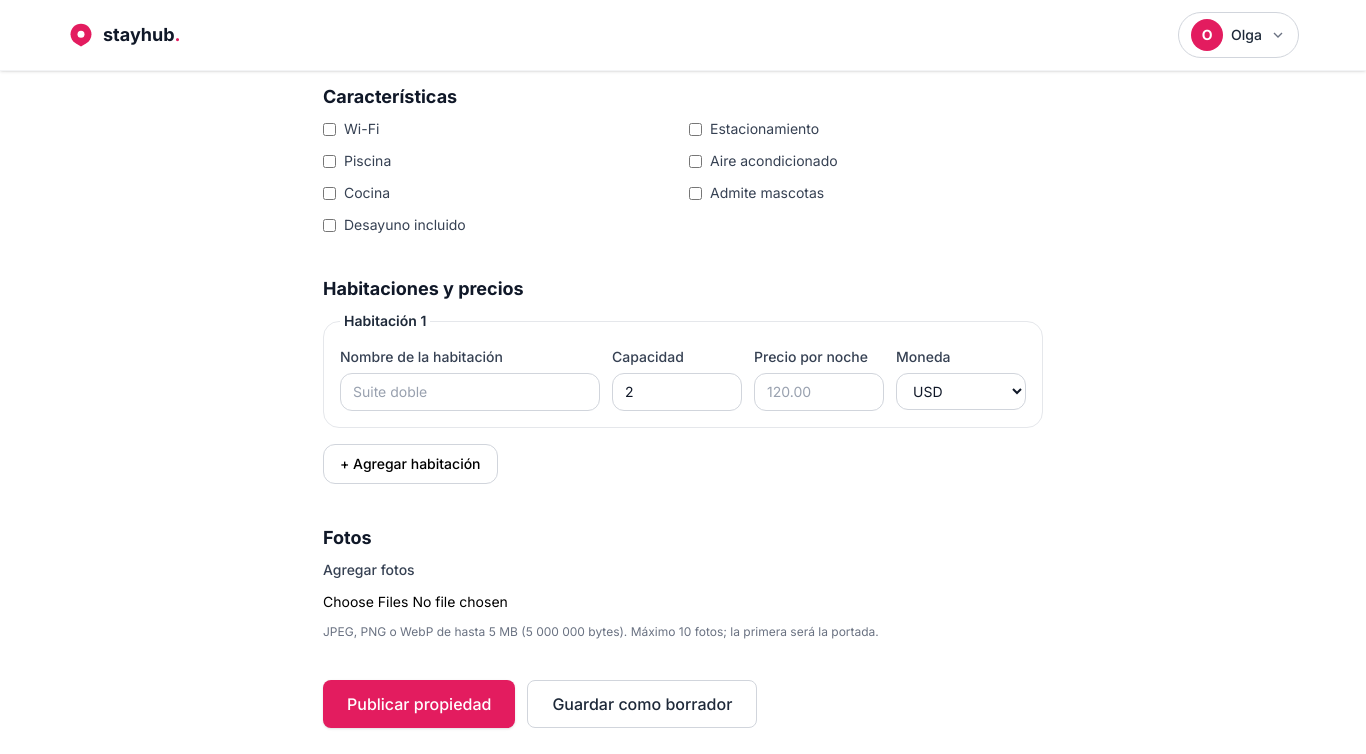
Test: PublishProperty form › adds and removes rooms dynamically, always keeping one
(page scrolled)
Expected: the button "Eliminar habitación" is not shown
Click the button "+ Agregar habitación" at x=410, y=464, box [323,444,498,484]
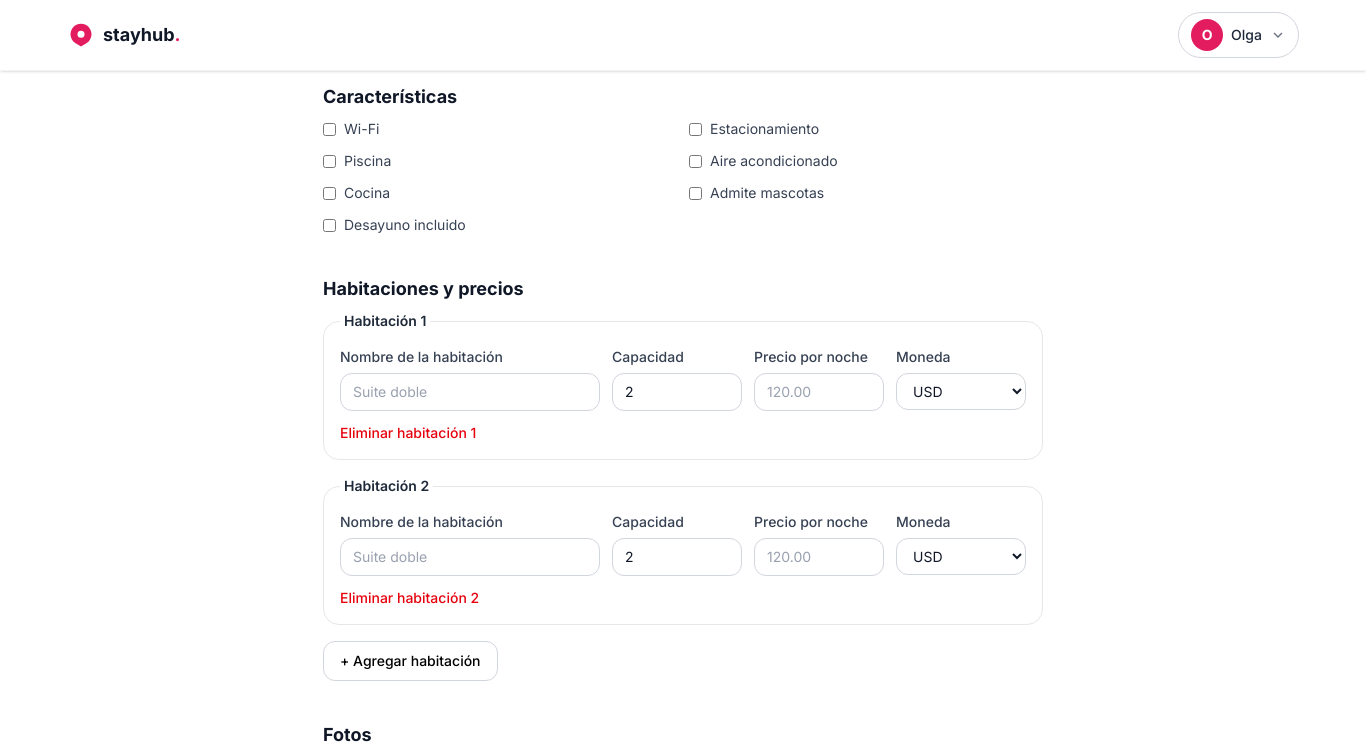
Click the button "+ Agregar habitación" at x=410, y=661, box [323,641,498,681]
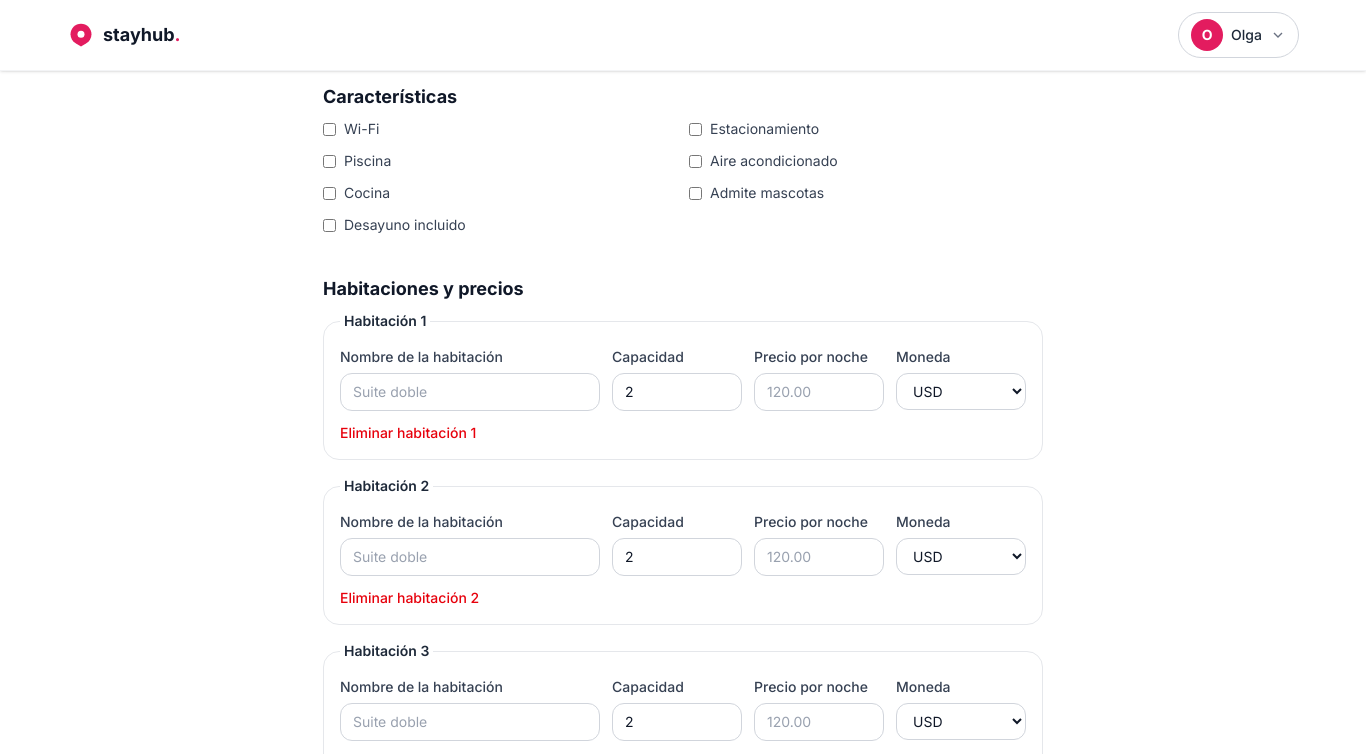
Result: the number of fields labelled "Nombre de la habitación" is 3
Type "Segunda" into the 2nd field labelled "Nombre de la habitación" at x=470, y=557, box [340,538,600,576]
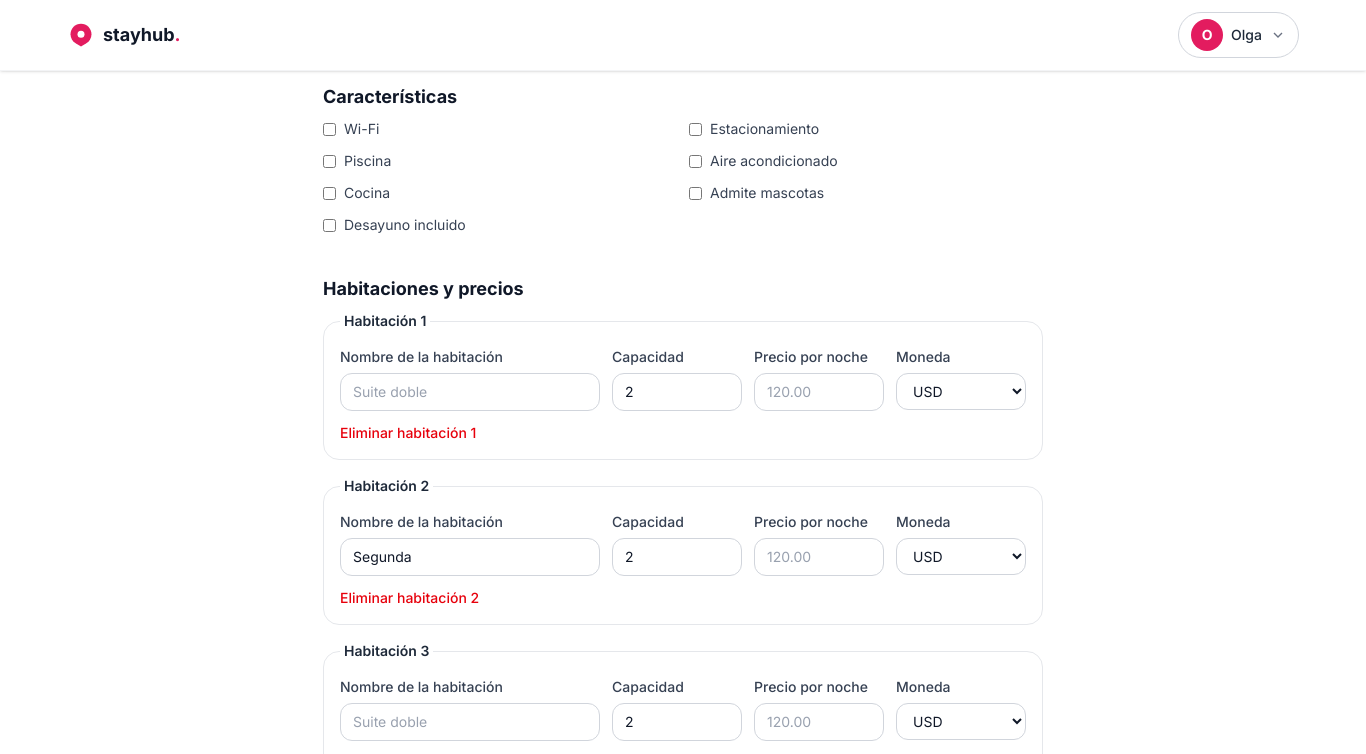
Click the button "Eliminar habitación 1" at x=408, y=433, box [340,423,476,443]
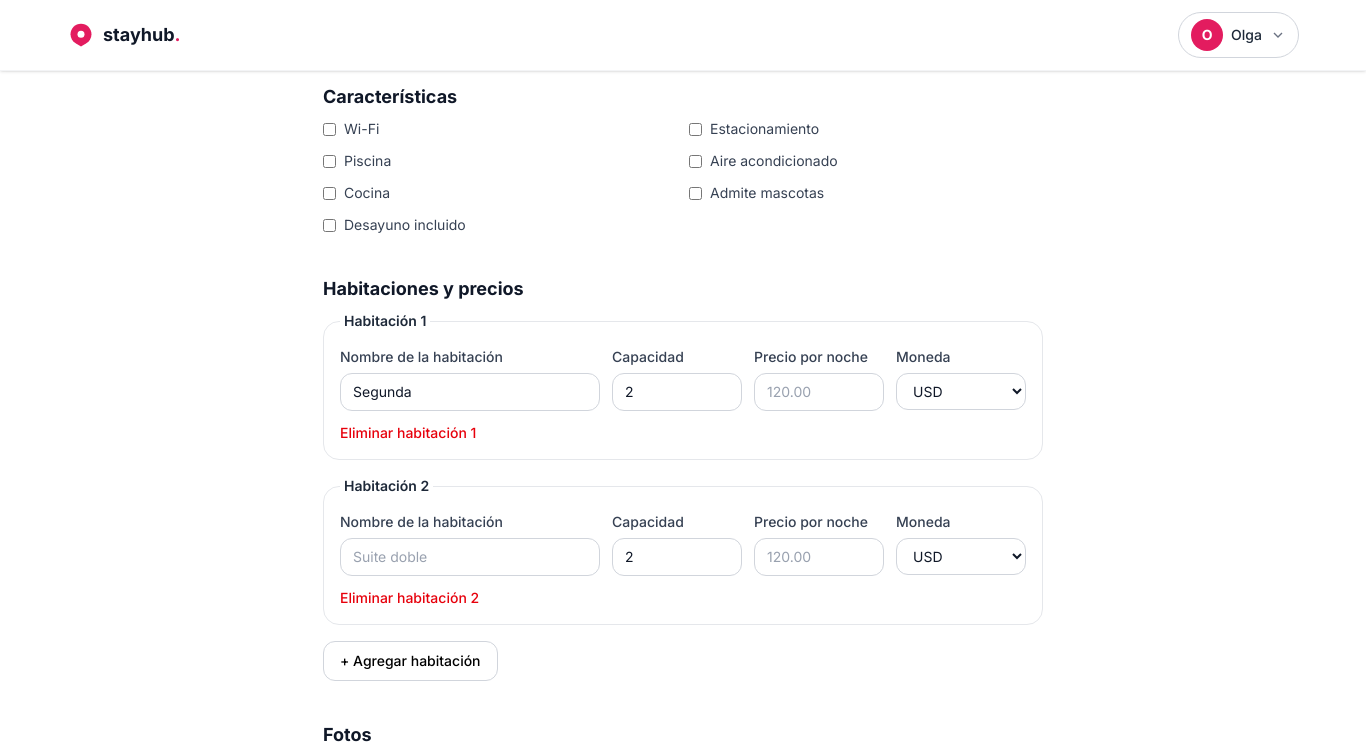
Result: the number of fields labelled "Nombre de la habitación" is 2 at [340,373,600,411]; [340,538,600,576]
